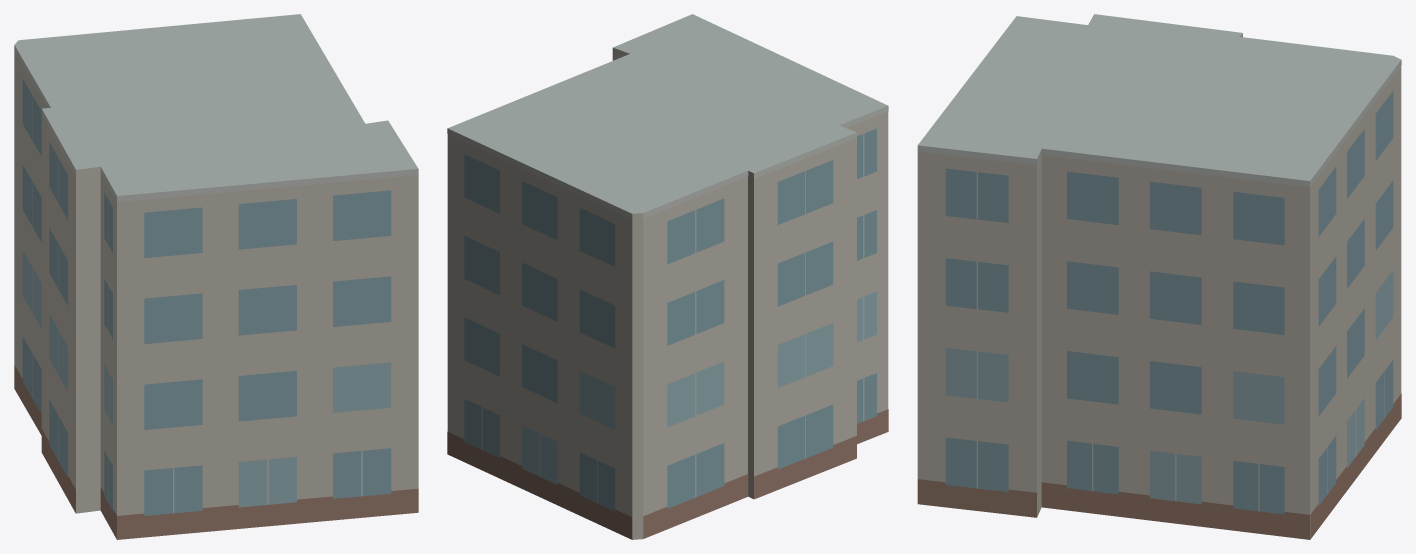
Rendered from survey-upis-32678756.glb.
3 renders of one model, left to right at view 1: azimuth 30°, elevation 25°; view 2: azimuth 150°, elevation 25°; view 3: azimuth 270°, elevation 25°, orthographic. The views are drawn at different scales.
Parts seen in each view (by area): view 1: survey-upis-32678756.tmp; view 2: survey-upis-32678756.tmp; view 3: survey-upis-32678756.tmp.
Part boxes in pixels (x1=…): survey-upis-32678756.tmp: x1=14, y1=14, x2=418, y2=539; survey-upis-32678756.tmp: x1=447, y1=14, x2=888, y2=539; survey-upis-32678756.tmp: x1=917, y1=14, x2=1401, y2=539.
Size of the model in its own units: 13.93 by 13.93 by 17.04.
